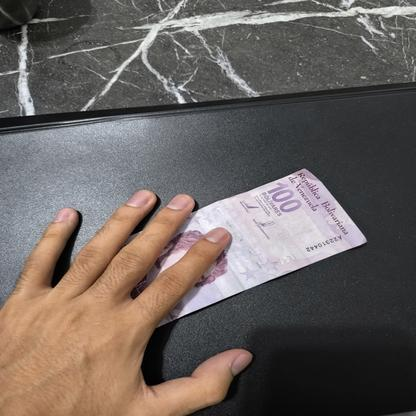one_hundred-front-vef: (118, 167, 367, 328)
